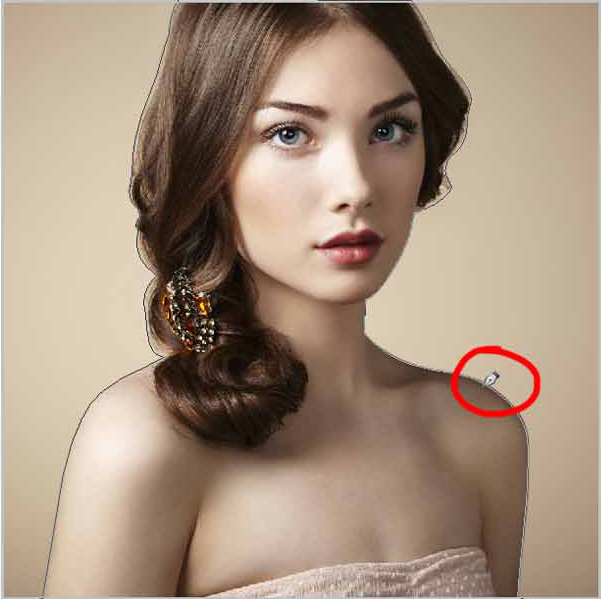bare: (228, 169, 432, 301)
